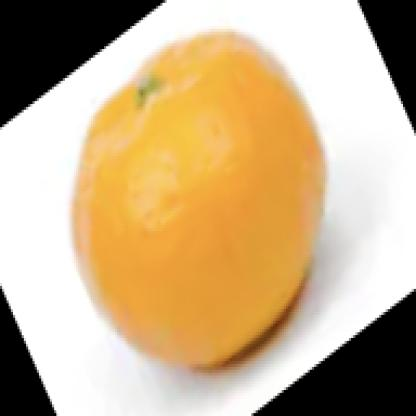fresh: (75, 31, 328, 375)
